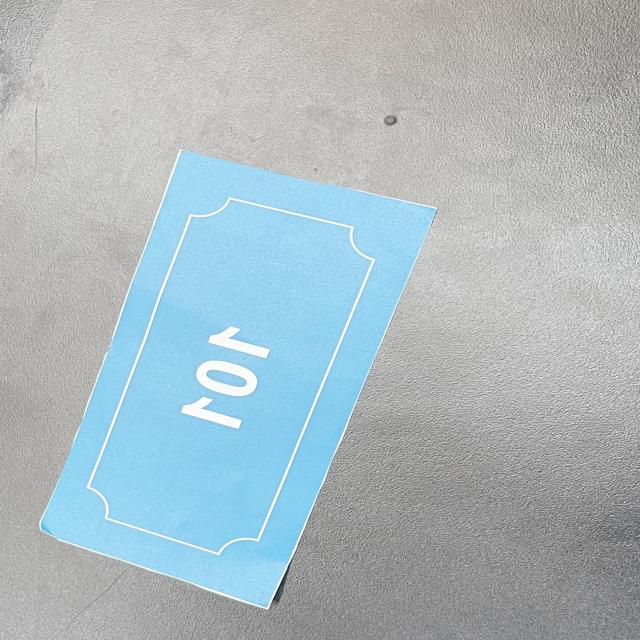Card: (7, 118, 472, 634)
